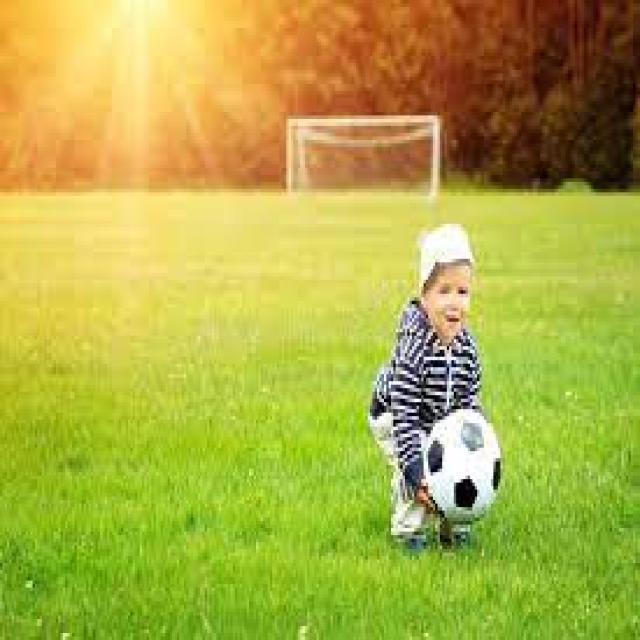ball: (424, 407, 502, 519)
